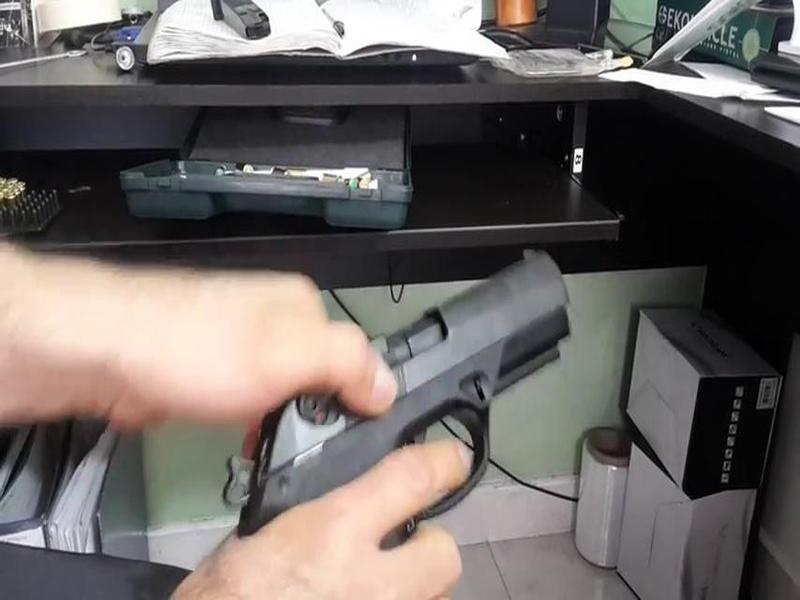Pistola: (223, 233, 583, 566)
